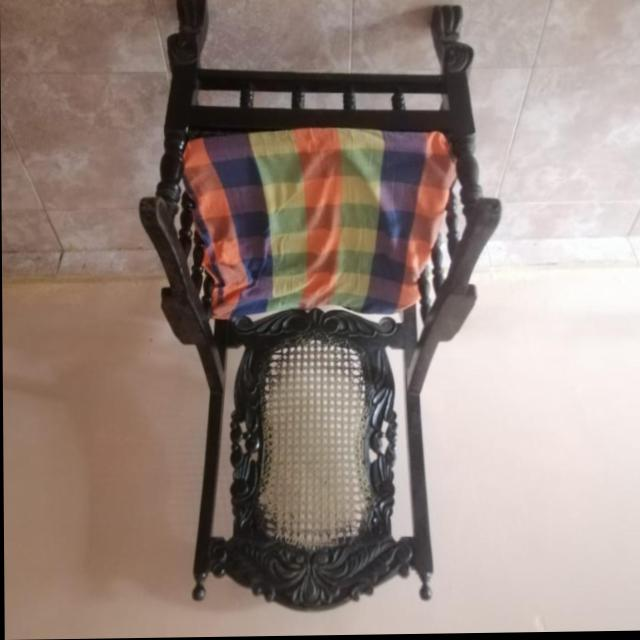Chair: (136, 0, 504, 610)
